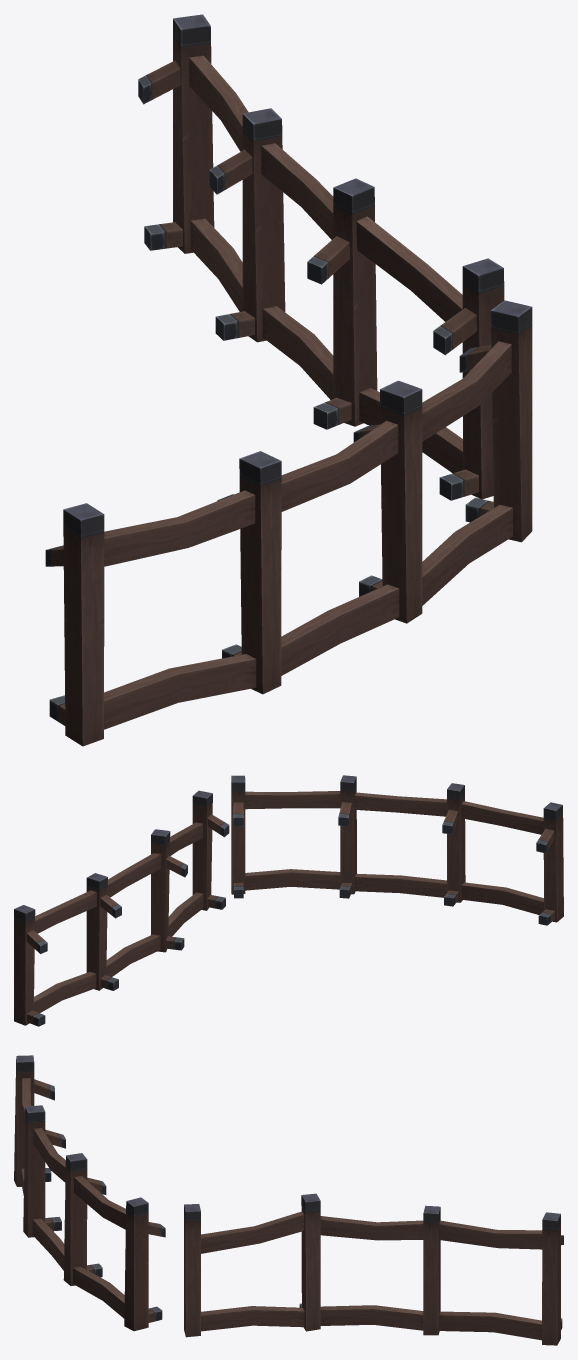
File: scene_malujiakuangdao_hulan05.FBX
3 views of the same model, one above another, from view 1: azimuth 30°, elevation 25°; view 2: azimuth 150°, elevation 25°; view 3: azimuth 270°, elevation 25° (orthographic). The views are drawn at different scales.
Parts seen in each view (by area): view 1: scene_malujiakuangdao_hulan05; view 2: scene_malujiakuangdao_hulan05; view 3: scene_malujiakuangdao_hulan05.
Part boxes in pixels (left/top/right/bottom): scene_malujiakuangdao_hulan05: left=45, top=14, right=532, bottom=746; scene_malujiakuangdao_hulan05: left=14, top=775, right=563, bottom=1026; scene_malujiakuangdao_hulan05: left=14, top=1055, right=563, bottom=1345.
Size of the model in its own units: 557 by 201 by 781.
